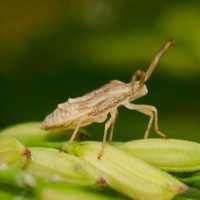insect: (40, 40, 174, 158)
